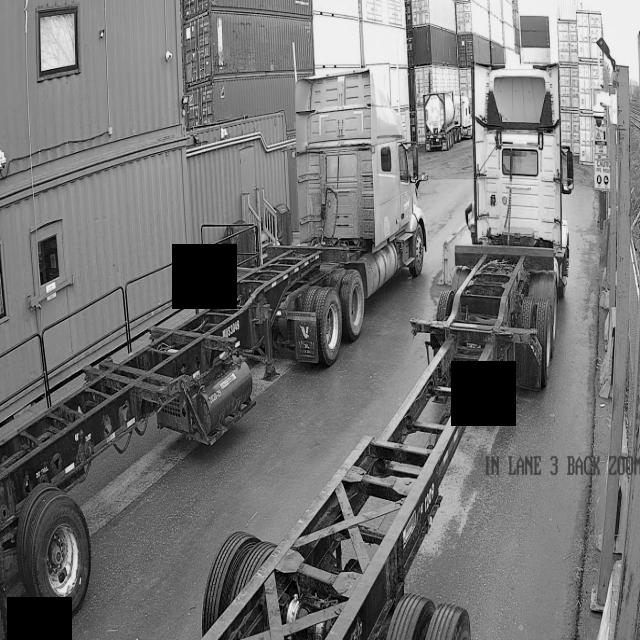truck_without_container: (0, 71, 427, 621), (200, 64, 573, 640)
